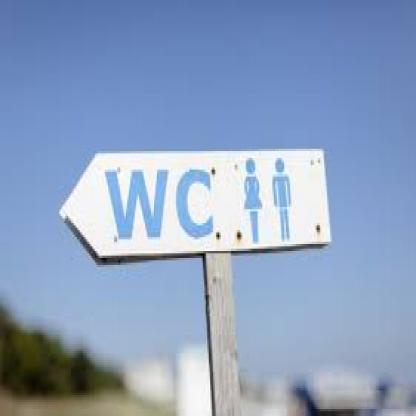toilet: (240, 154, 297, 242)
